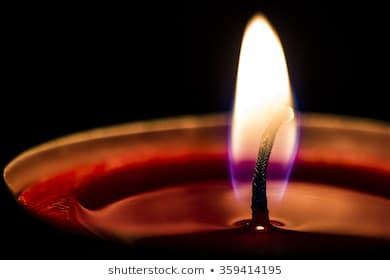fire: (228, 11, 296, 179)
